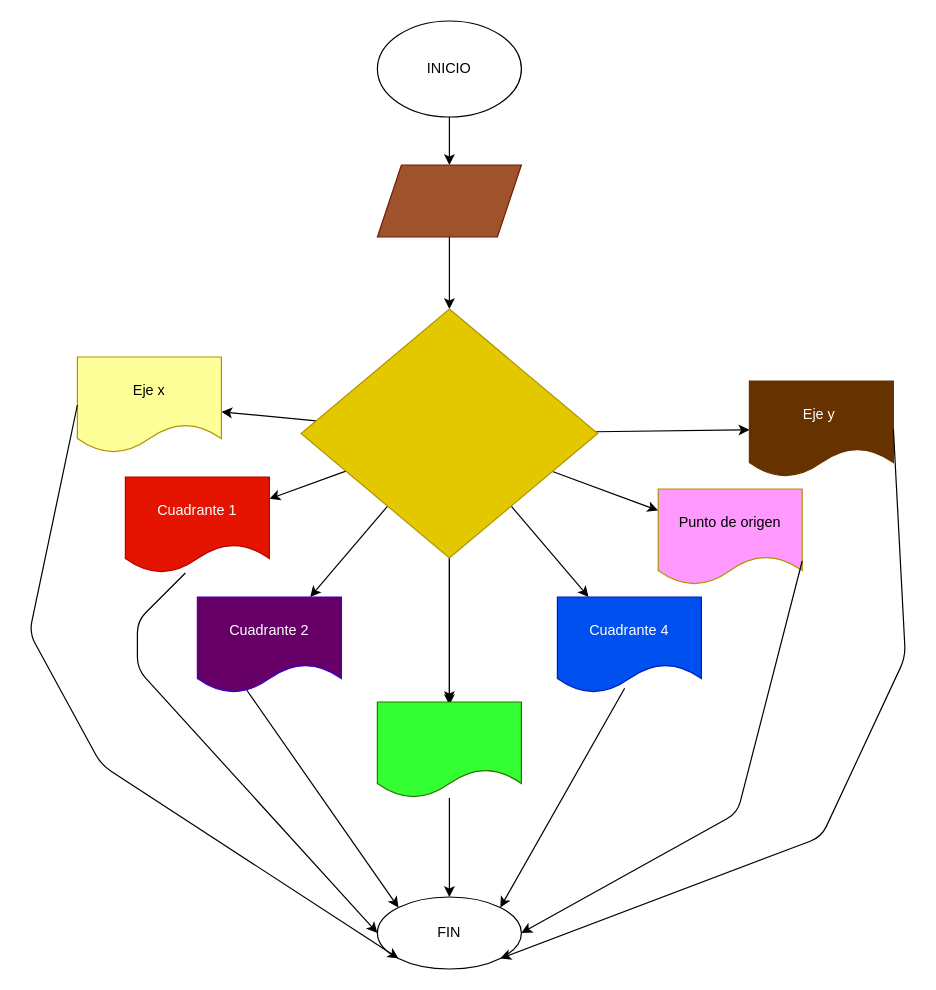
Some shapes in this 936 by 990 pixel diagram are drawn without their labels. Each missing label, with the centre of its shape:
"(x, y)" goes at (x=448, y=200).
"Cuadrante 3" goes at (x=448, y=749).
"x>0 & y>0 x<0 & y<0 x>0 & y<0 x<0 & y>0 x==0 & y==0 x!=0 & y==0 x=0 & y!=0" goes at (x=449, y=433).
